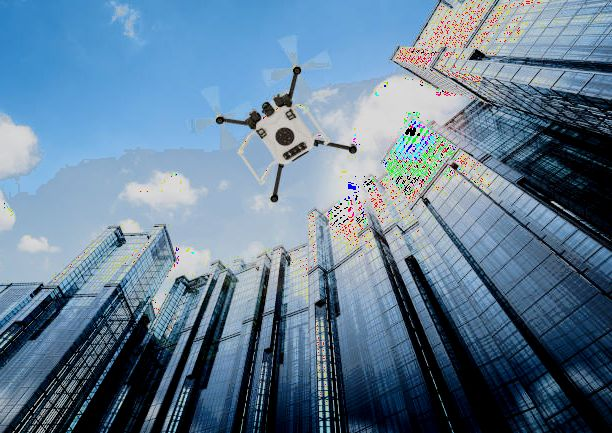Drone: (188, 30, 366, 213)
